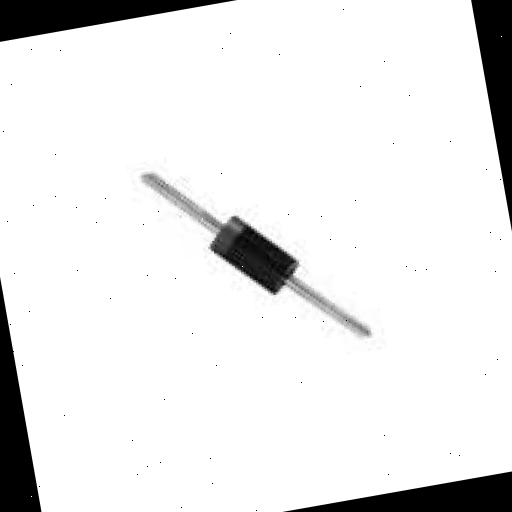DIODE: (134, 136, 372, 372)
